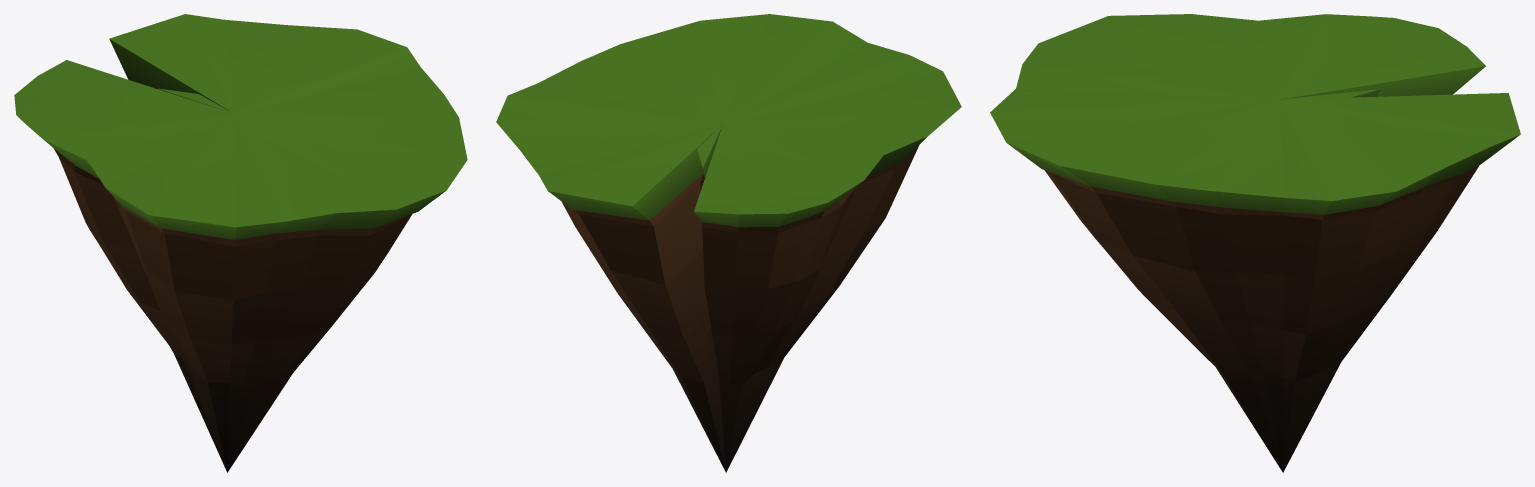
File: flyland.glb
3 views of the same model, side by side, from view 1: azimuth 30°, elevation 25°; view 2: azimuth 150°, elevation 25°; view 3: azimuth 270°, elevation 25° (orthographic). The views are drawn at different scales.
Visible parts, largest first — view 1: Vert.001, Vert; view 2: Vert.001, Vert; view 3: Vert.001, Vert.
Part boxes in pixels (left/top/right/bottom): Vert.001: left=14, top=14, right=467, bottom=239; Vert: left=53, top=148, right=412, bottom=472; Vert.001: left=496, top=14, right=961, bottom=227; Vert: left=561, top=145, right=919, bottom=472; Vert.001: left=990, top=14, right=1520, bottom=214; Vert: left=1044, top=161, right=1484, bottom=472.
Bounding box in the file's own units: 8.72 × 8.11 × 10.38.
Materials: 2 (2 with a texture image).
